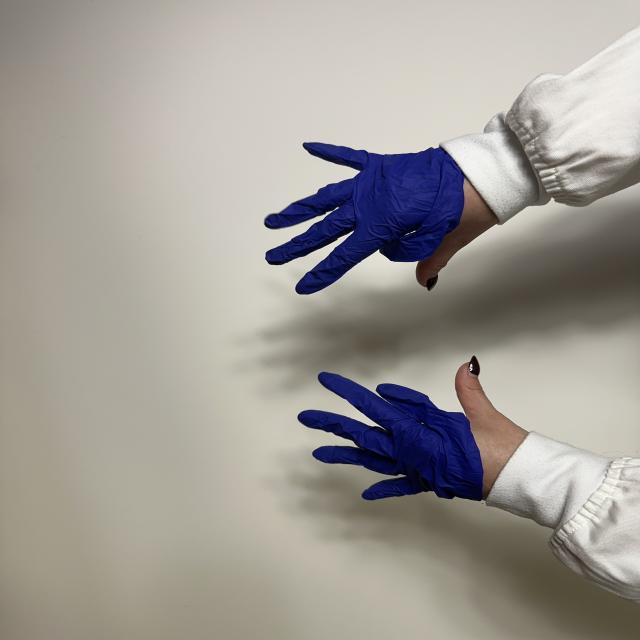glove_not_fitted: (264, 138, 500, 296), (296, 356, 532, 506)
